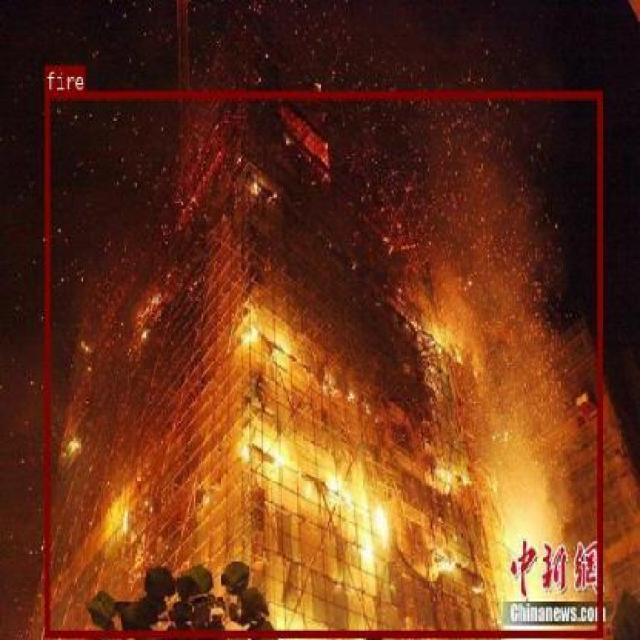Fire: (44, 91, 601, 637)
